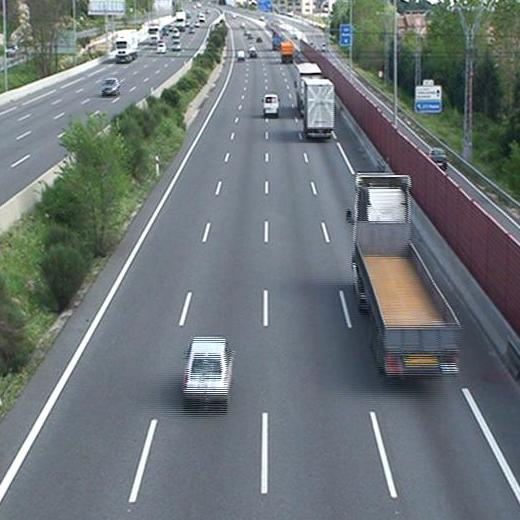car: (183, 335, 234, 405)
small-truck: (280, 40, 294, 62)
truck: (349, 171, 463, 379), (302, 78, 335, 137)
van: (261, 93, 280, 117), (236, 49, 246, 61)
